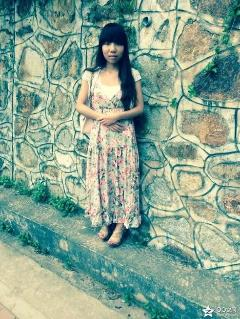sling: (85, 66, 142, 230)
